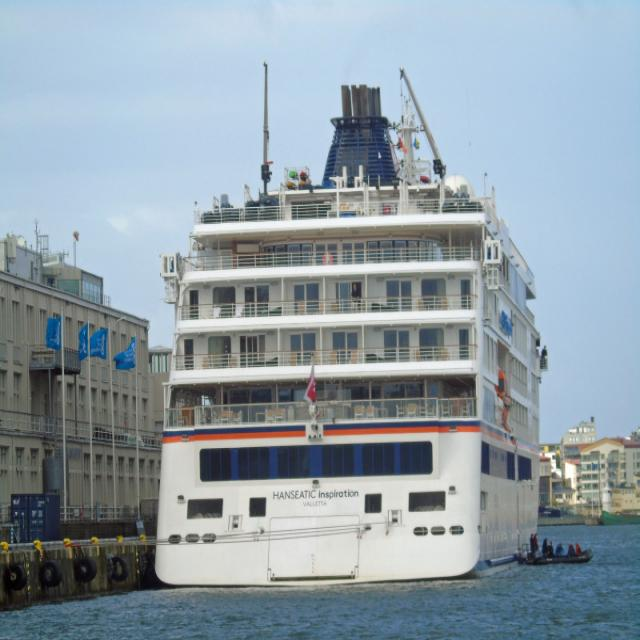cruises: (150, 66, 555, 586)
